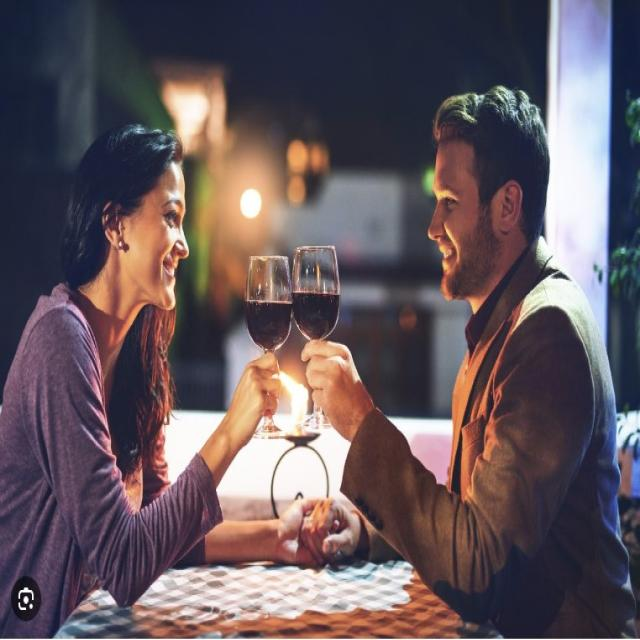eating-person: (294, 79, 640, 640), (1, 89, 293, 640)
